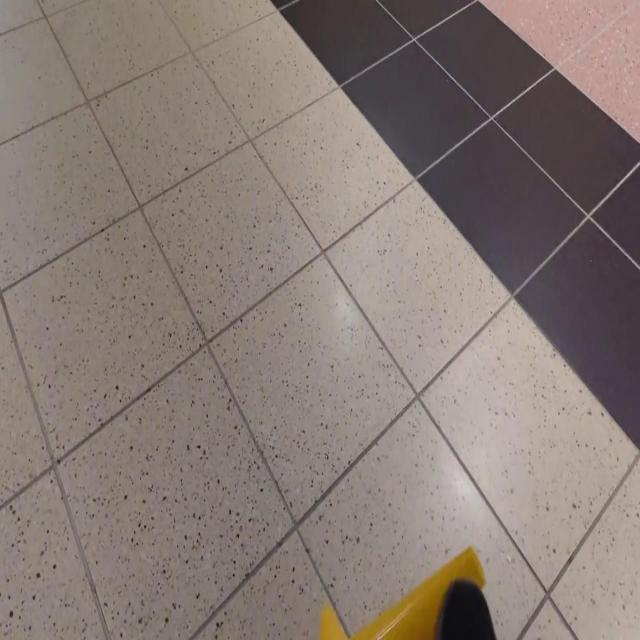frc_cone: (319, 542, 486, 640)
